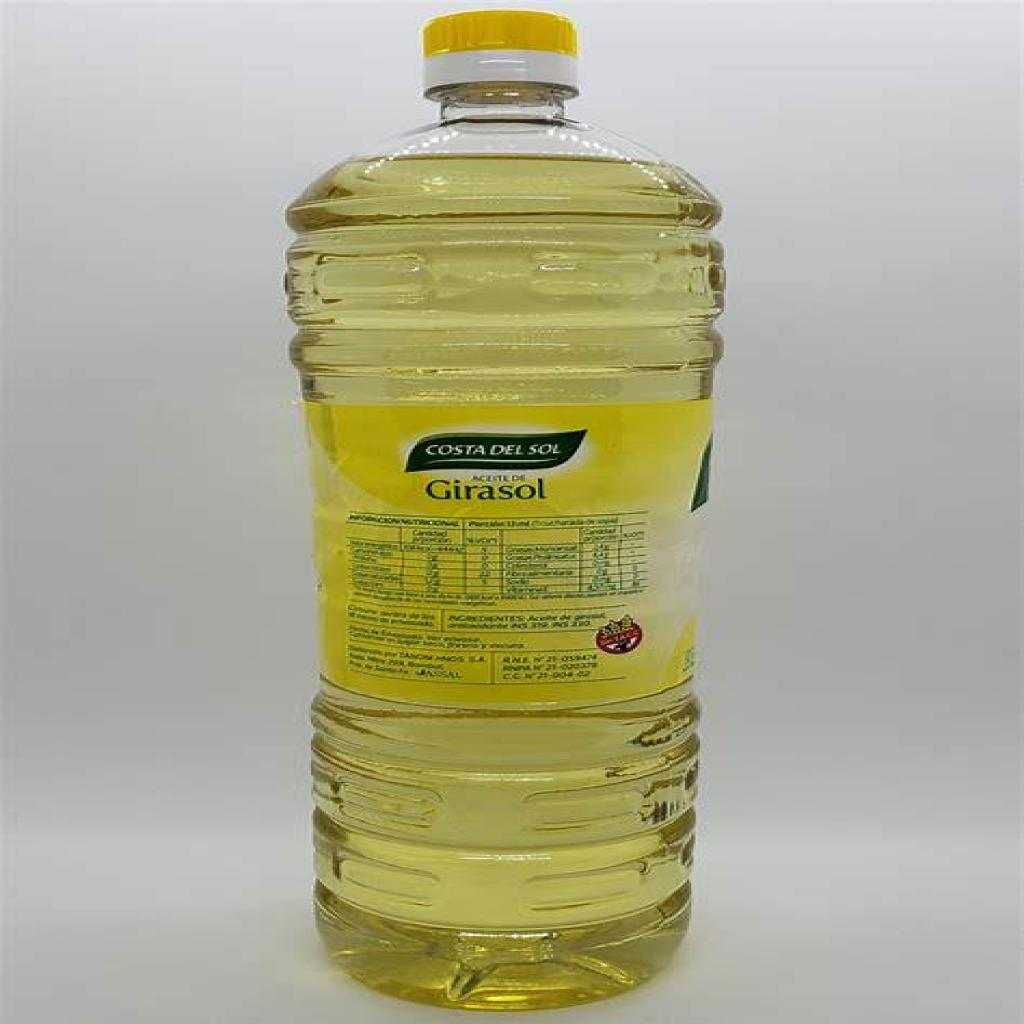plastic: (268, 6, 739, 1018)
